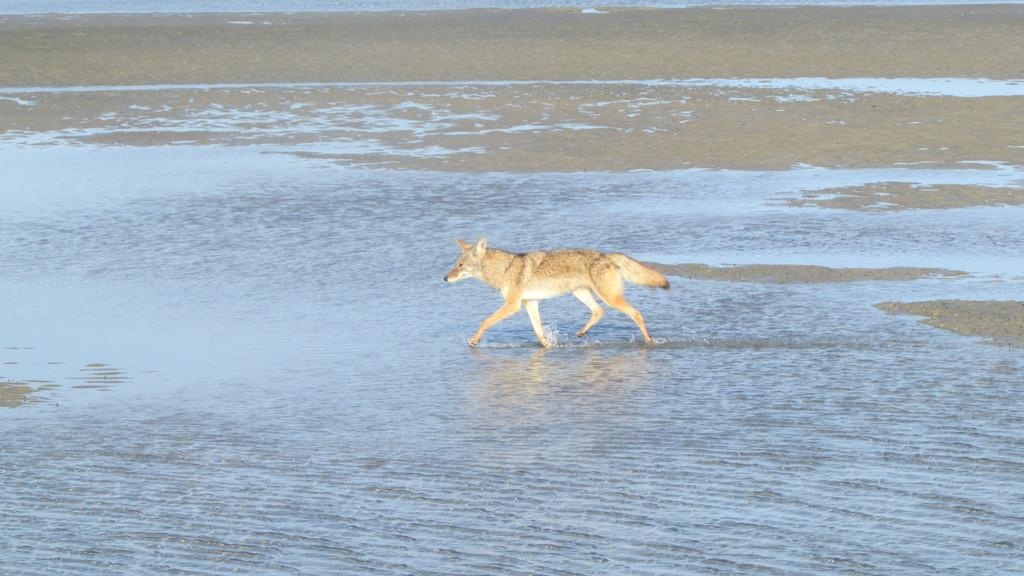Coyote: (441, 235, 674, 351)
